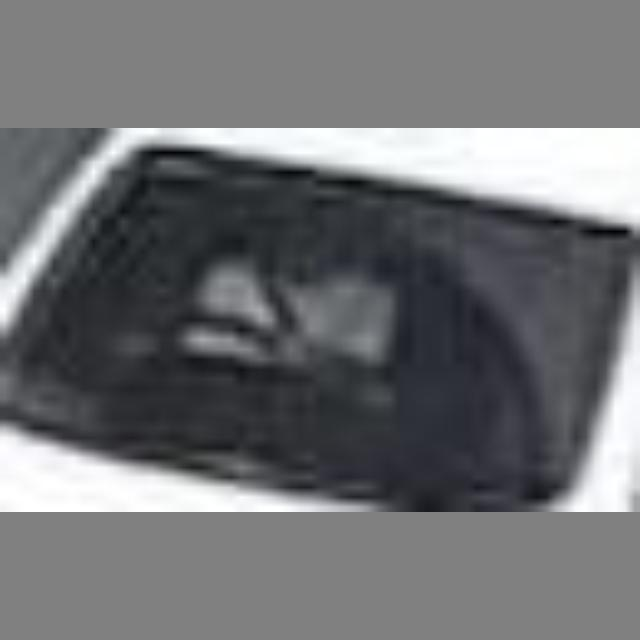pakai: (148, 226, 394, 414)
